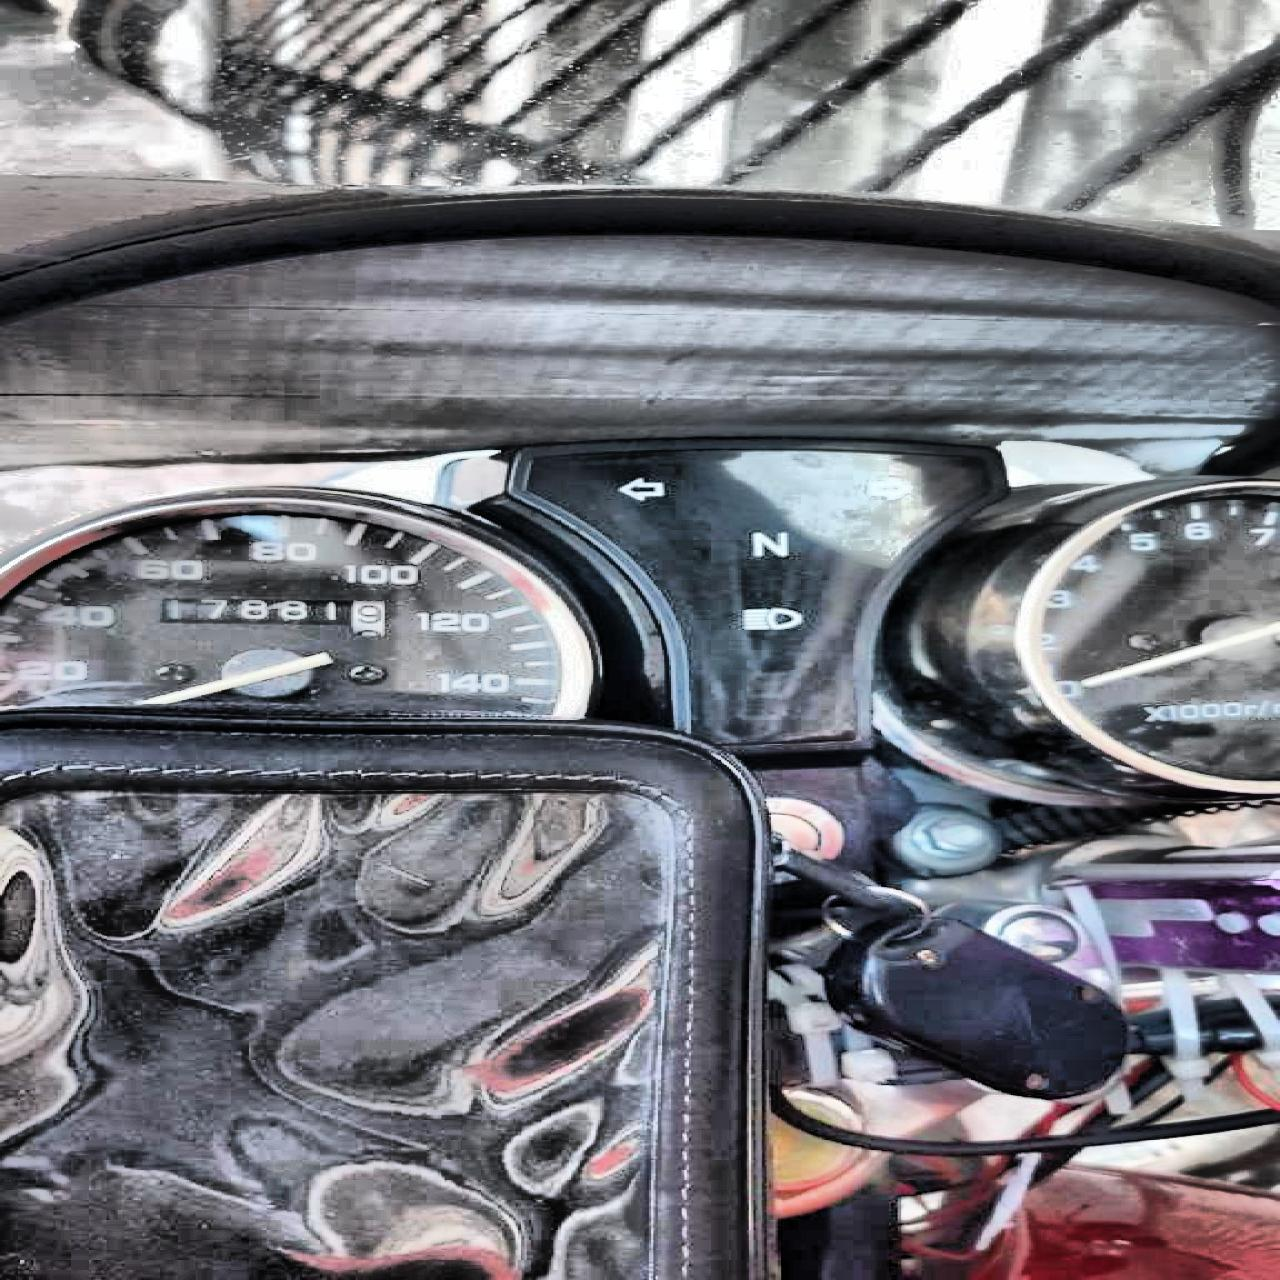1: (162, 595, 182, 621), (322, 598, 338, 621)
7: (196, 595, 226, 620)
8: (238, 595, 268, 620), (275, 598, 306, 620)
9: (350, 600, 382, 622)
odometer: (144, 591, 392, 639)
